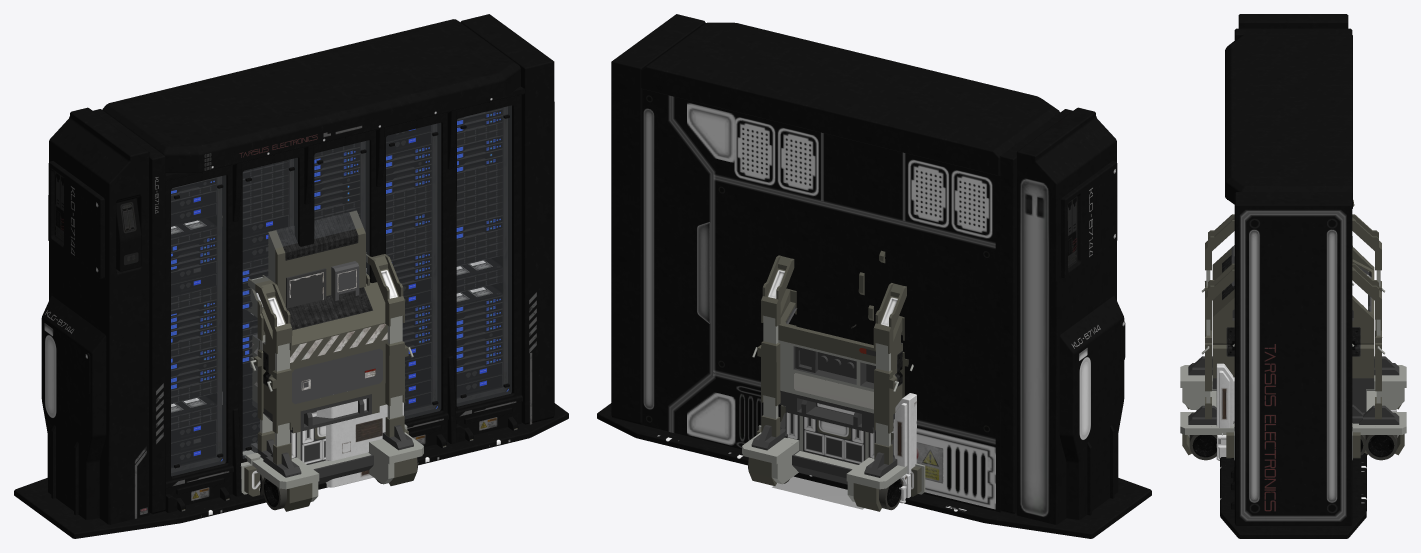
Rendered from diagnose.glb.
3 renders of one model, left to right at view 1: azimuth 30°, elevation 25°; view 2: azimuth 150°, elevation 25°; view 3: azimuth 270°, elevation 25°, orthographic. The views are drawn at different scales.
Parts seen in each view (by area): view 1: prop_diagnose_server_rack_1_a, prop_diagnose_console_diagnostic_1_a, prop_diagnose_console_diagnostic_2_a, prop_diagnose_computer_1_a; view 2: prop_diagnose_server_rack_1_a, prop_diagnose_console_diagnostic_1_a, prop_diagnose_computer_1_a, prop_diagnose_console_diagnostic_2_a; view 3: prop_diagnose_server_rack_1_a, prop_diagnose_console_diagnostic_1_a, prop_diagnose_computer_1_a, prop_diagnose_console_diagnostic_2_a.
Part boxes in pixels (x1=…): prop_diagnose_server_rack_1_a: x1=14, y1=14, x2=568, y2=538; prop_diagnose_console_diagnostic_1_a: x1=240, y1=252, x2=423, y2=511; prop_diagnose_console_diagnostic_2_a: x1=222, y1=210, x2=406, y2=495; prop_diagnose_computer_1_a: x1=222, y1=392, x2=403, y2=487; prop_diagnose_server_rack_1_a: x1=597, y1=14, x2=1151, y2=538; prop_diagnose_console_diagnostic_1_a: x1=742, y1=255, x2=925, y2=511; prop_diagnose_computer_1_a: x1=893, y1=393, x2=916, y2=503; prop_diagnose_console_diagnostic_2_a: x1=759, y1=250, x2=913, y2=485; prop_diagnose_server_rack_1_a: x1=1220, y1=14, x2=1366, y2=538; prop_diagnose_console_diagnostic_1_a: x1=1180, y1=214, x2=1406, y2=460; prop_diagnose_computer_1_a: x1=1216, y1=305, x2=1363, y2=460; prop_diagnose_console_diagnostic_2_a: x1=1211, y1=200, x2=1375, y2=455.
Bounding box in the file's own units: 3.49 × 2.49 × 1.53.
Materials: 32 (22 with a texture image).
